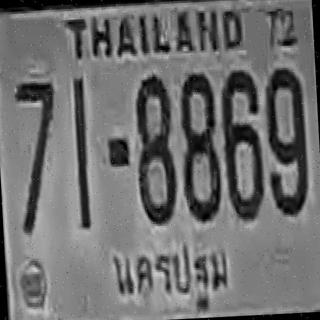N01: (71, 76, 92, 228)
N06: (219, 67, 266, 220)
N07: (13, 80, 60, 233)
N08: (132, 74, 178, 225), (178, 71, 222, 221)
N09: (264, 64, 310, 216)
P28: (106, 233, 235, 318)
